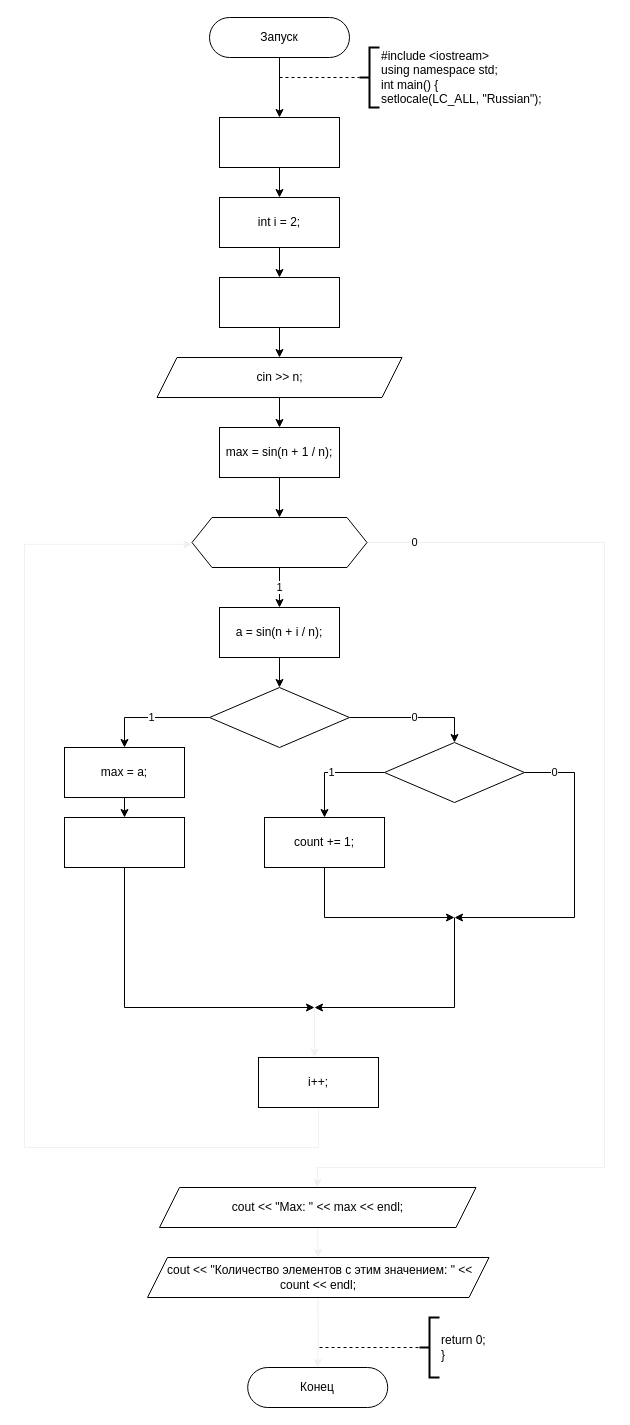
Image size: 630x1425. Some labels were removed from this diagram. Here are the shapes that lost their labels. From the top down, the centre of each, then its label:
At (x=279, y=142): "float n, a, max;".
At (x=279, y=302): "int count = 1;".
At (x=279, y=542): "while (i <= n)".
At (x=279, y=717): "if (a > max)".
At (x=454, y=772): "if (a == max)".
At (x=124, y=842): "count = 1;".
